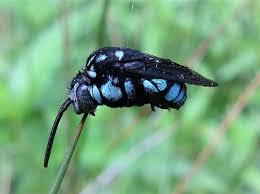Thyreus: (40, 32, 221, 169)
